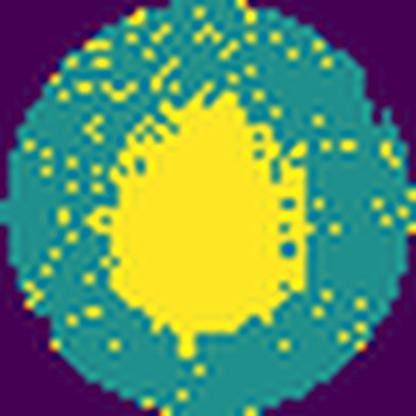Center: (107, 83, 309, 361)
